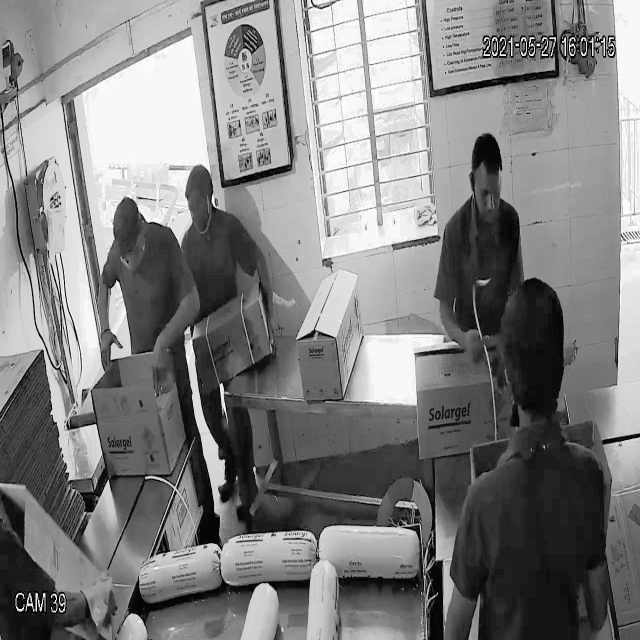Sin_gafas: (466, 171, 504, 208)
